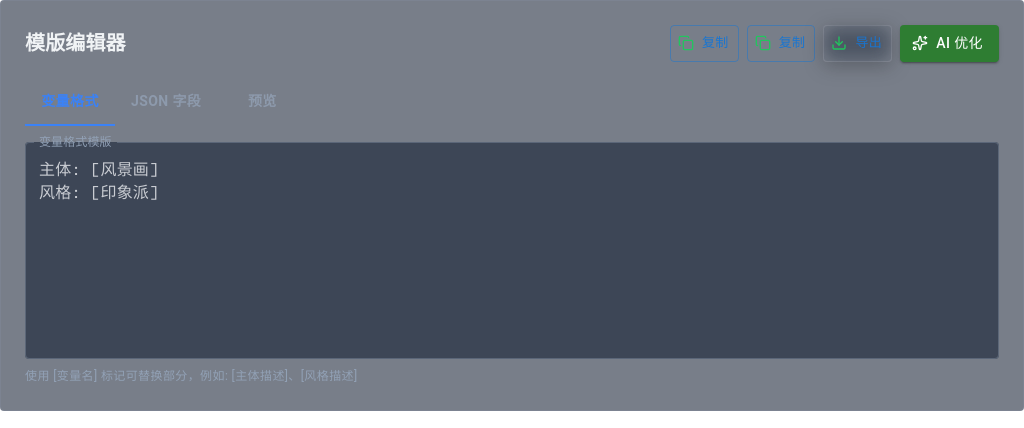
Test: TemplateEditor Component › Preview Tab › should display preview tab content
Click the tab "预览" at point(262, 102), box 217,78 -> 307,126
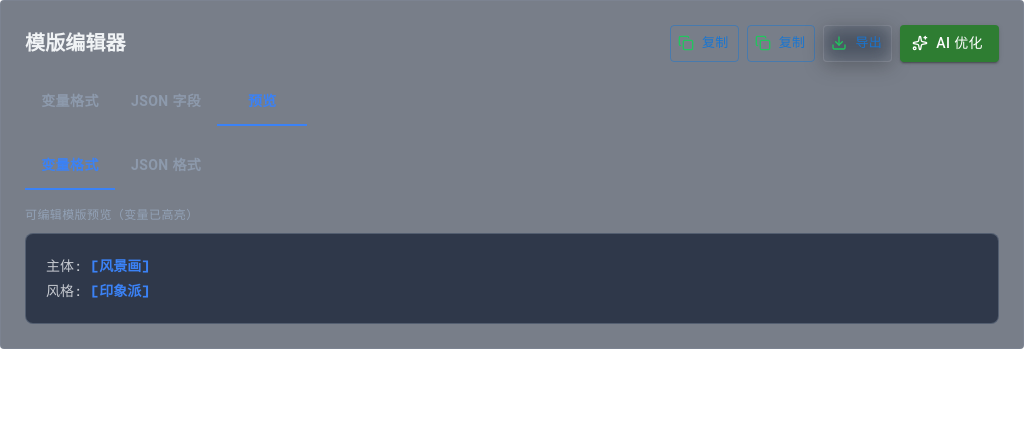
Now the element with test id "template-preview" is shown, box 25,142 -> 999,324
